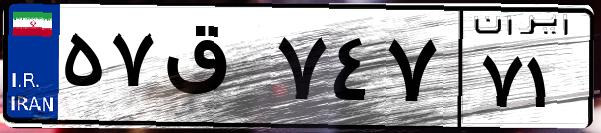1: (525, 38, 570, 115)
4: (330, 28, 385, 110)
5: (57, 26, 110, 100)
7: (270, 28, 330, 110), (385, 28, 445, 110), (475, 38, 525, 113), (110, 28, 158, 98)
ق: (158, 20, 270, 120)
